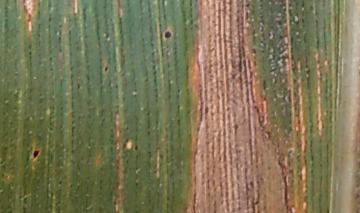tarspot: (160, 24, 176, 44), (29, 145, 43, 163), (102, 61, 111, 76), (131, 142, 141, 154)
